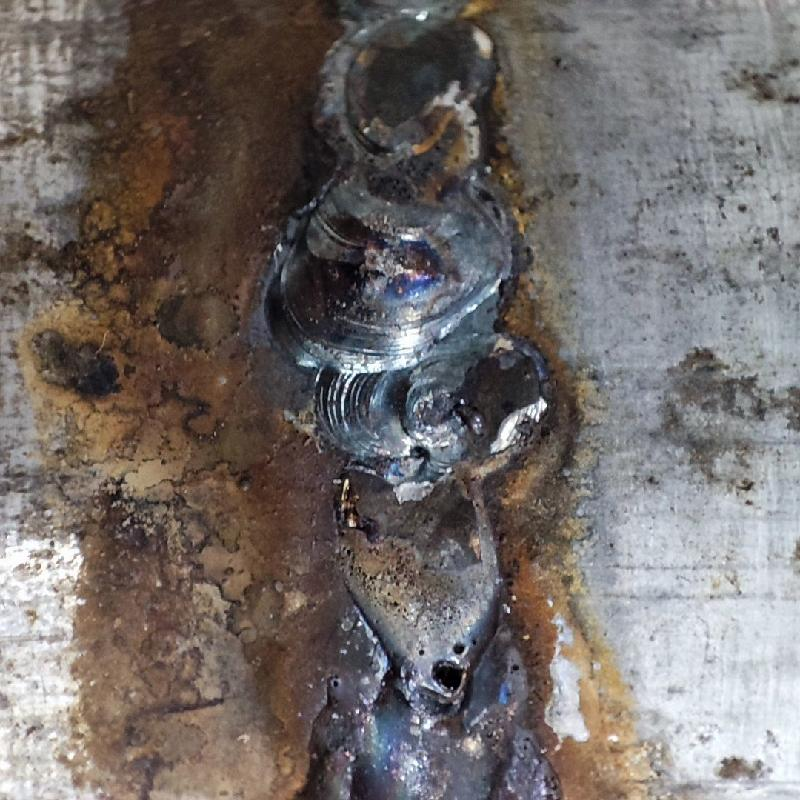Not_fully_soldered: (301, 372, 539, 708)
Surface_pores: (390, 634, 487, 700)
wrong_size: (266, 0, 515, 370)
